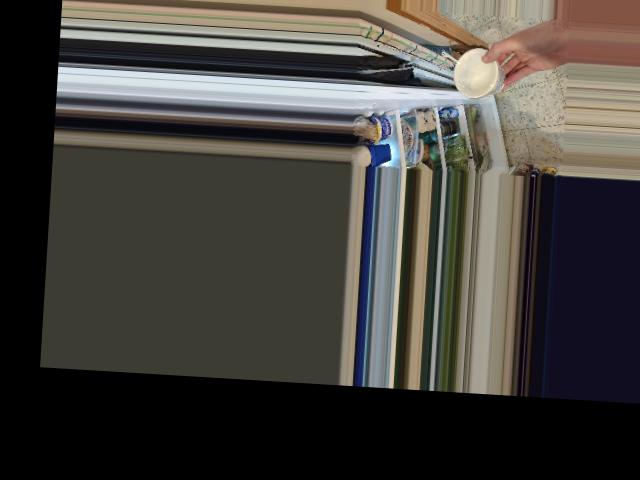cotage: (454, 51, 504, 98)
